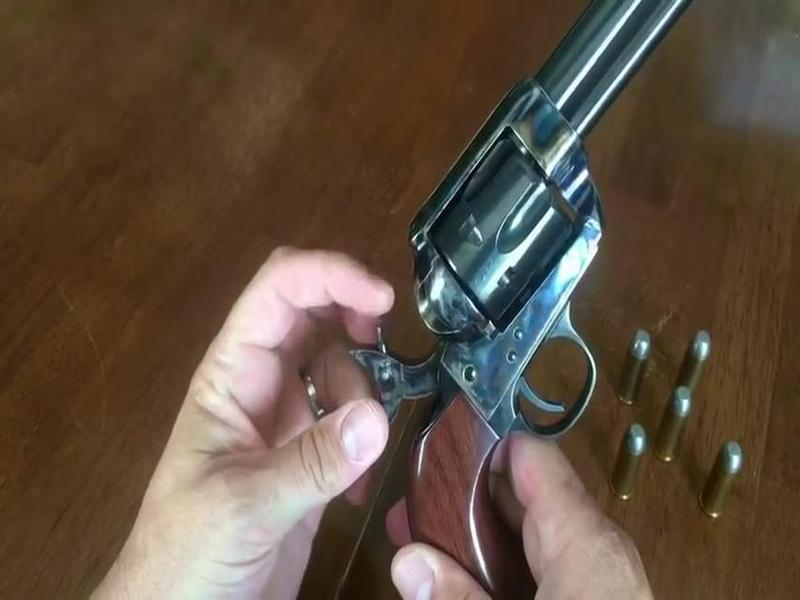Revolver: (406, 4, 697, 594)
